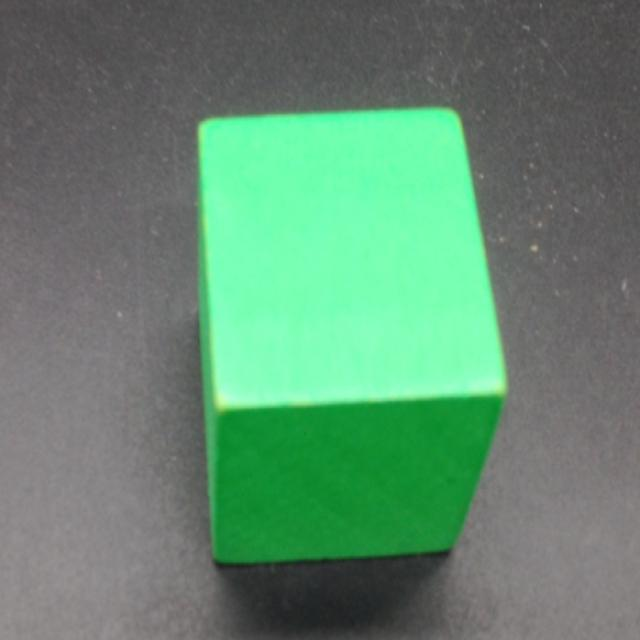green cube: (195, 107, 510, 567)
